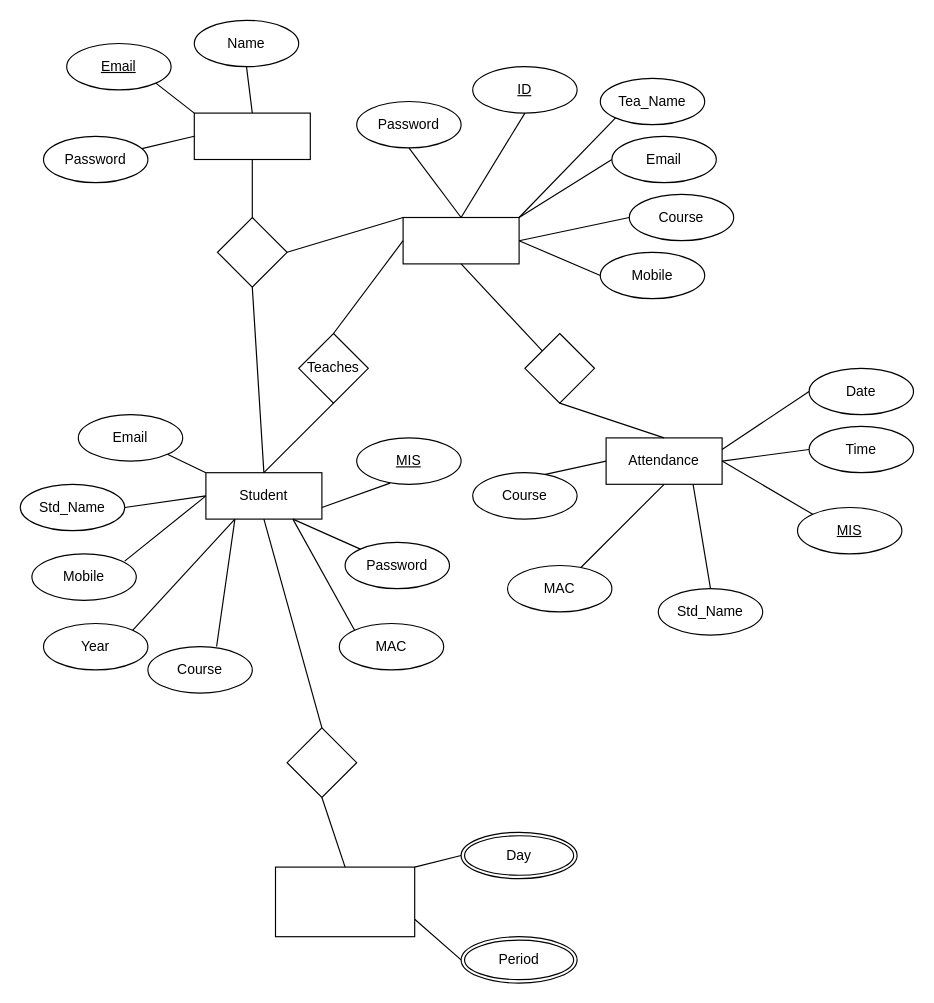
The diagram is 934 pixels wide and 1003 high, and some of its shapes have lost their labels. The box of each missing label's shape, as (x1, y1, x2, y2) in pixels:
Adds: (216, 216, 287, 287)
Admin: (193, 112, 310, 160)
Sets: (286, 727, 357, 798)
Takes: (524, 332, 594, 403)
Teacher: (402, 216, 519, 264)
TimeTable: (274, 866, 415, 937)
